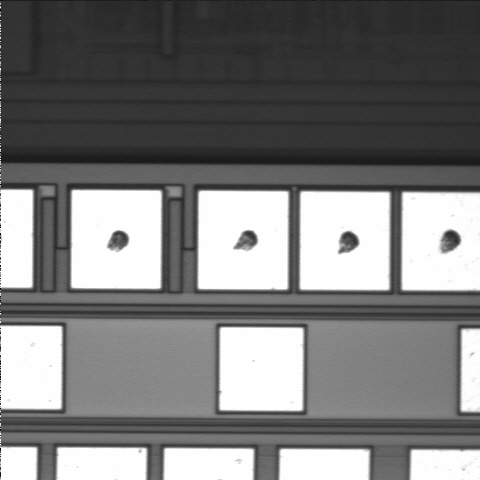pad: (71, 190, 161, 289), (198, 191, 288, 290), (300, 192, 390, 290), (220, 327, 303, 411)
